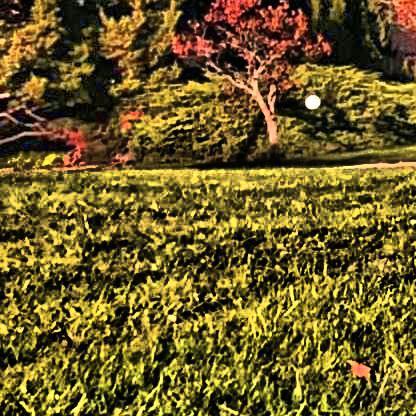golfball: (300, 90, 317, 107)
